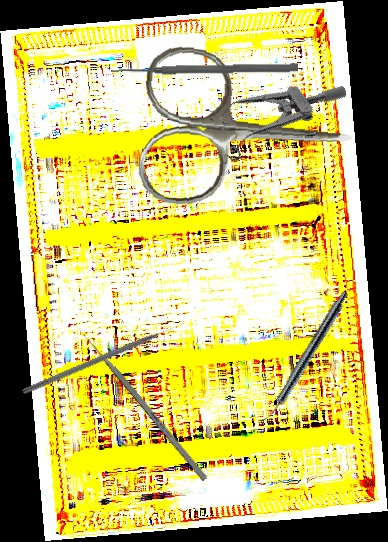Handpiece: (258, 287, 352, 429)
Hook Surgical: (21, 320, 186, 396)
Iris Scissors: (135, 42, 360, 220)
Pusher: (75, 325, 209, 482), (110, 61, 299, 77)
Speculum: (197, 43, 349, 177)
